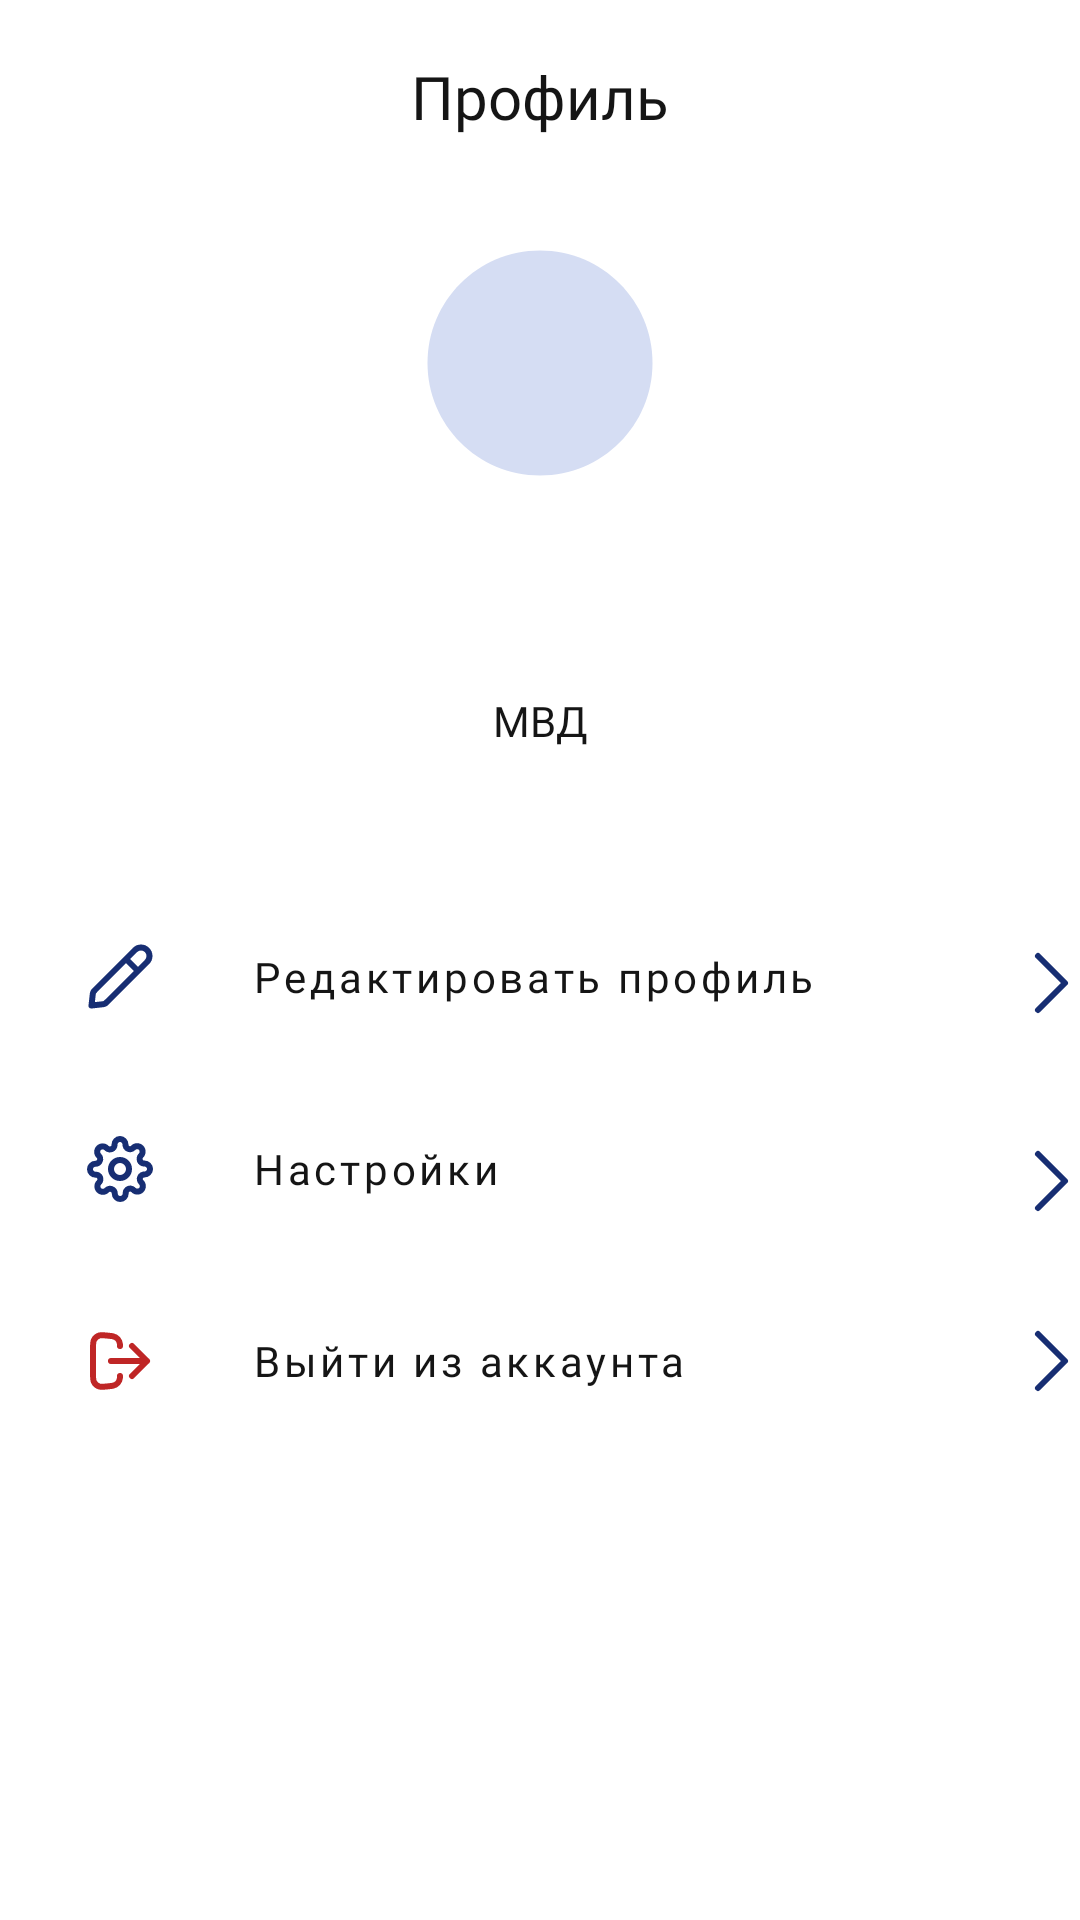

Point at icon controls on the screen. Image size 1080px×1920px, points as (x,y).
edit: (120,976)
log out: (120,1361)
settings: (120,1169)
